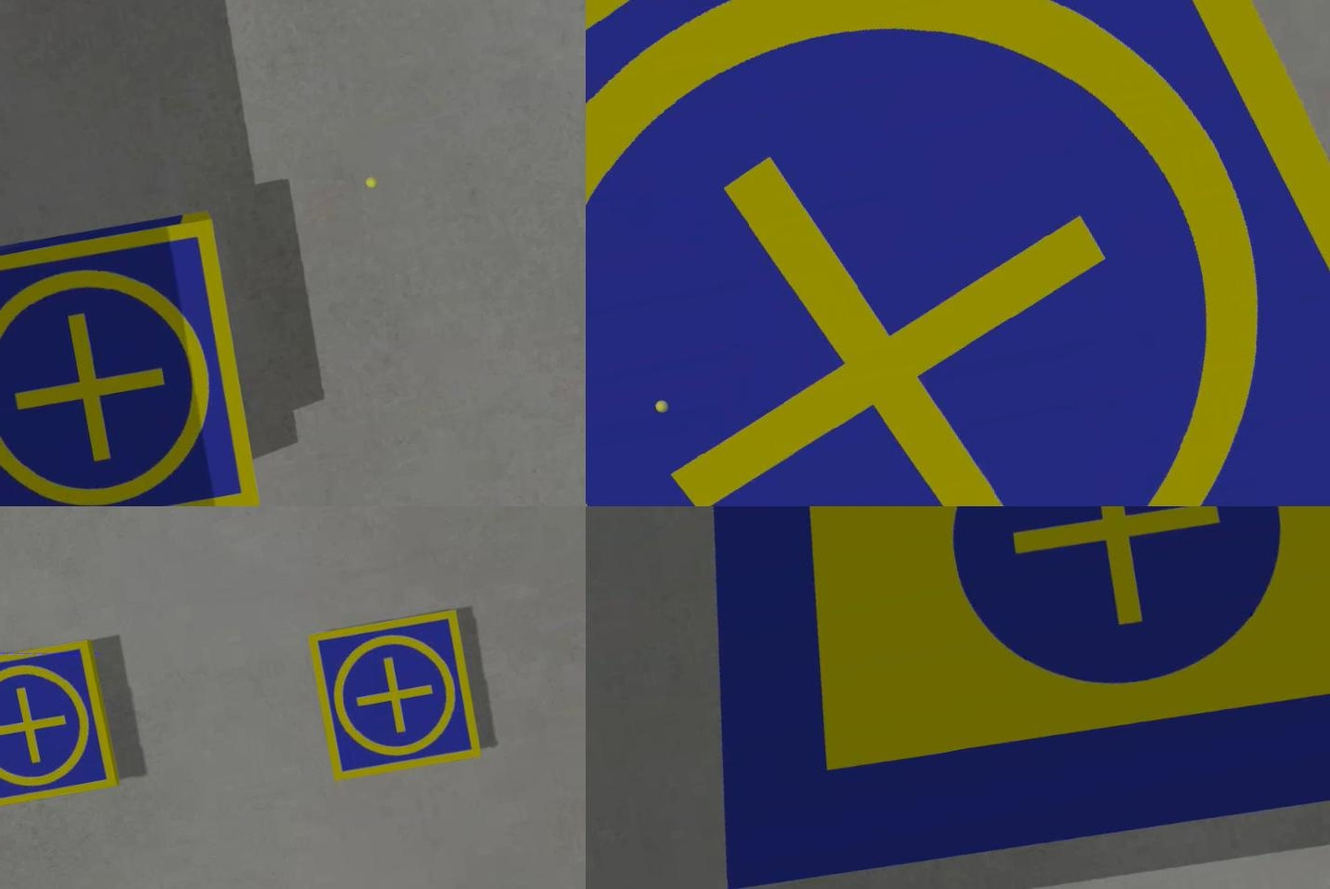large_base: (616, 506, 1328, 889)
small_base: (584, 1, 1328, 506), (0, 213, 267, 506), (300, 608, 484, 790), (0, 634, 121, 817)
